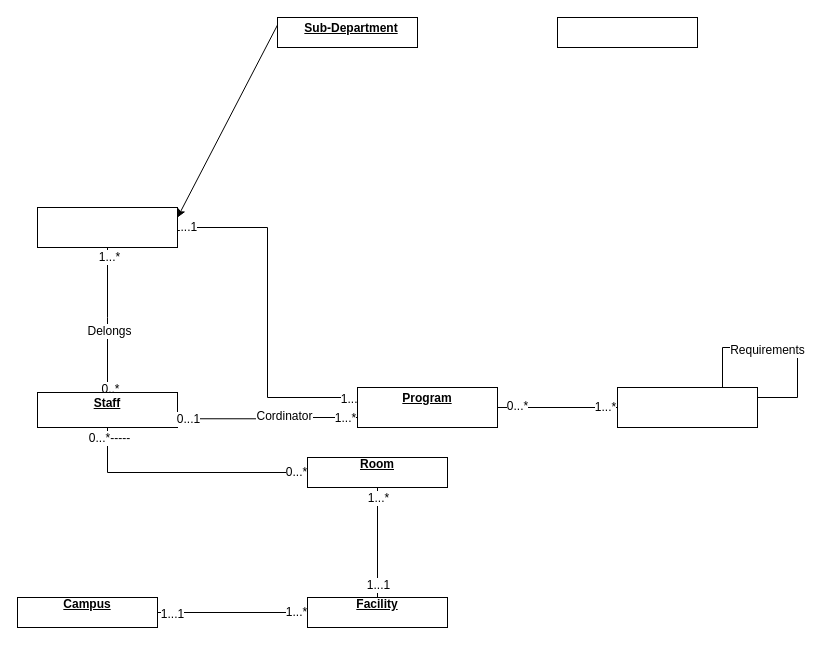
Image size: 822x645. Some labels were removed from this diagram. The box of each missing label's shape, as (x1, y1, x2, y2) in pixels:
Course: (616, 386, 758, 428)
Department: (36, 206, 178, 248)
Time Period: (556, 16, 698, 48)
